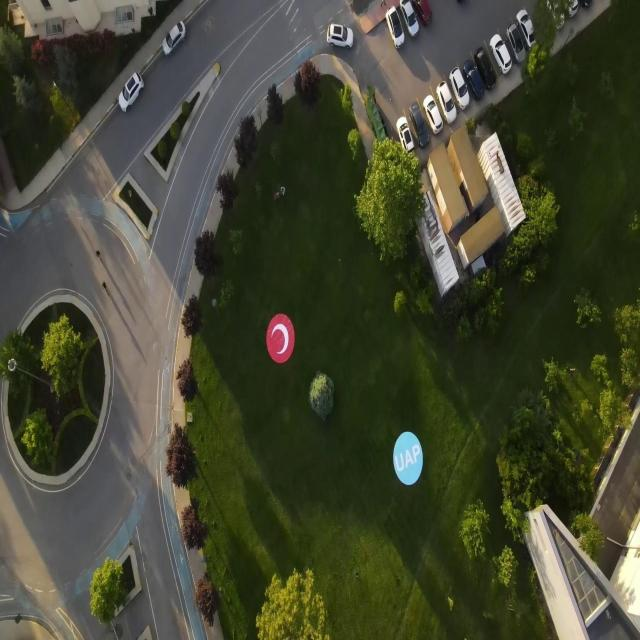p3rson: (102, 280, 107, 292), (280, 187, 286, 196), (96, 248, 101, 258), (274, 193, 279, 202), (381, 0, 386, 7)
